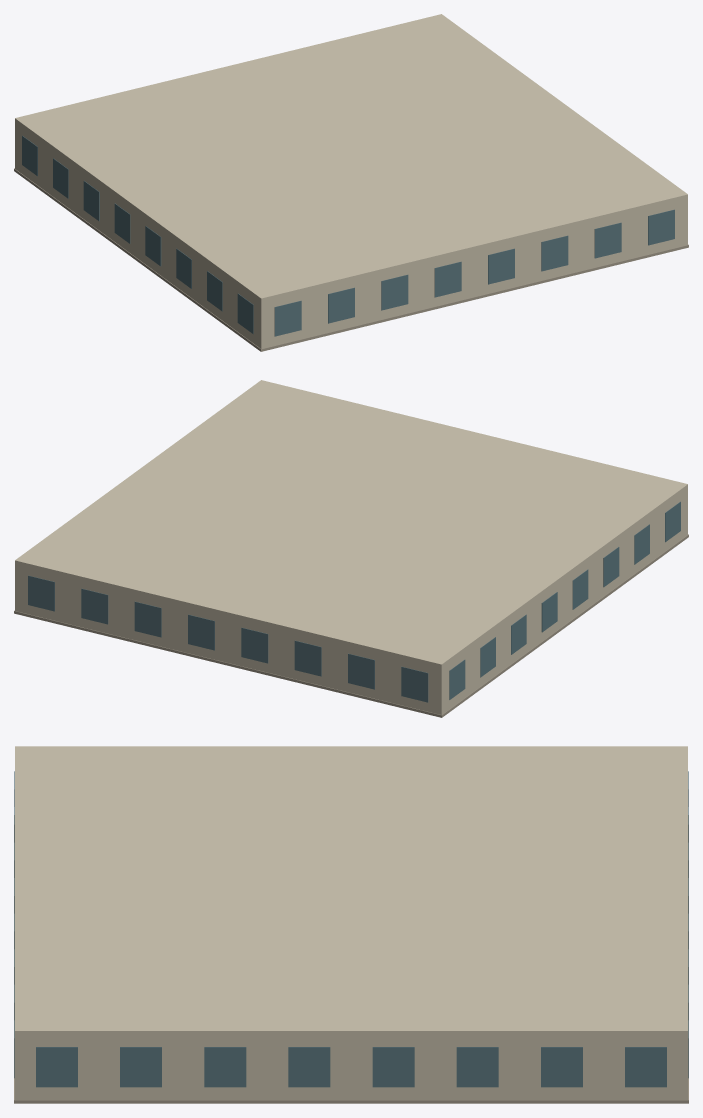
Rendered from tw_stone_32_floor_b_lod1.glb.
3 views of the same model, one above another, from view 1: azimuth 30°, elevation 25°; view 2: azimuth 150°, elevation 25°; view 3: azimuth 270°, elevation 25° (orthographic). The views are drawn at different scales.
Visible parts, largest first — view 1: tw_stone_32_floor_b_lod1; view 2: tw_stone_32_floor_b_lod1; view 3: tw_stone_32_floor_b_lod1.
Boxes of the visible parts, x1=… form: tw_stone_32_floor_b_lod1: x1=14, y1=14, x2=688, y2=351; tw_stone_32_floor_b_lod1: x1=14, y1=380, x2=688, y2=717; tw_stone_32_floor_b_lod1: x1=14, y1=746, x2=688, y2=1103.
Bounding box in the file's own units: 32.08 × 3.8 × 32.08.
2 materials, 2 textured.
